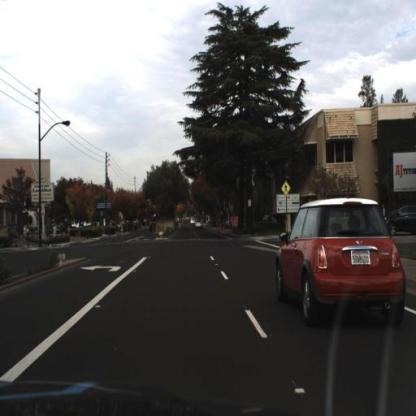car: (277, 198, 407, 327), (382, 203, 416, 239), (150, 218, 159, 232), (195, 219, 205, 231), (195, 220, 204, 230)
pedestrian: (382, 201, 387, 222)
